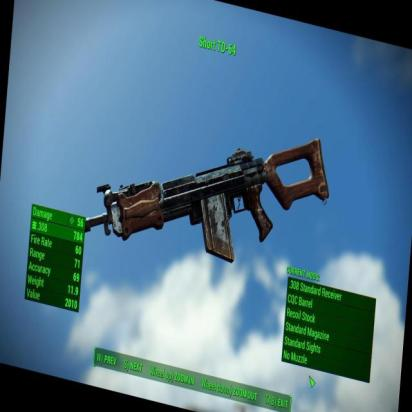Gun: (79, 138, 325, 260)
